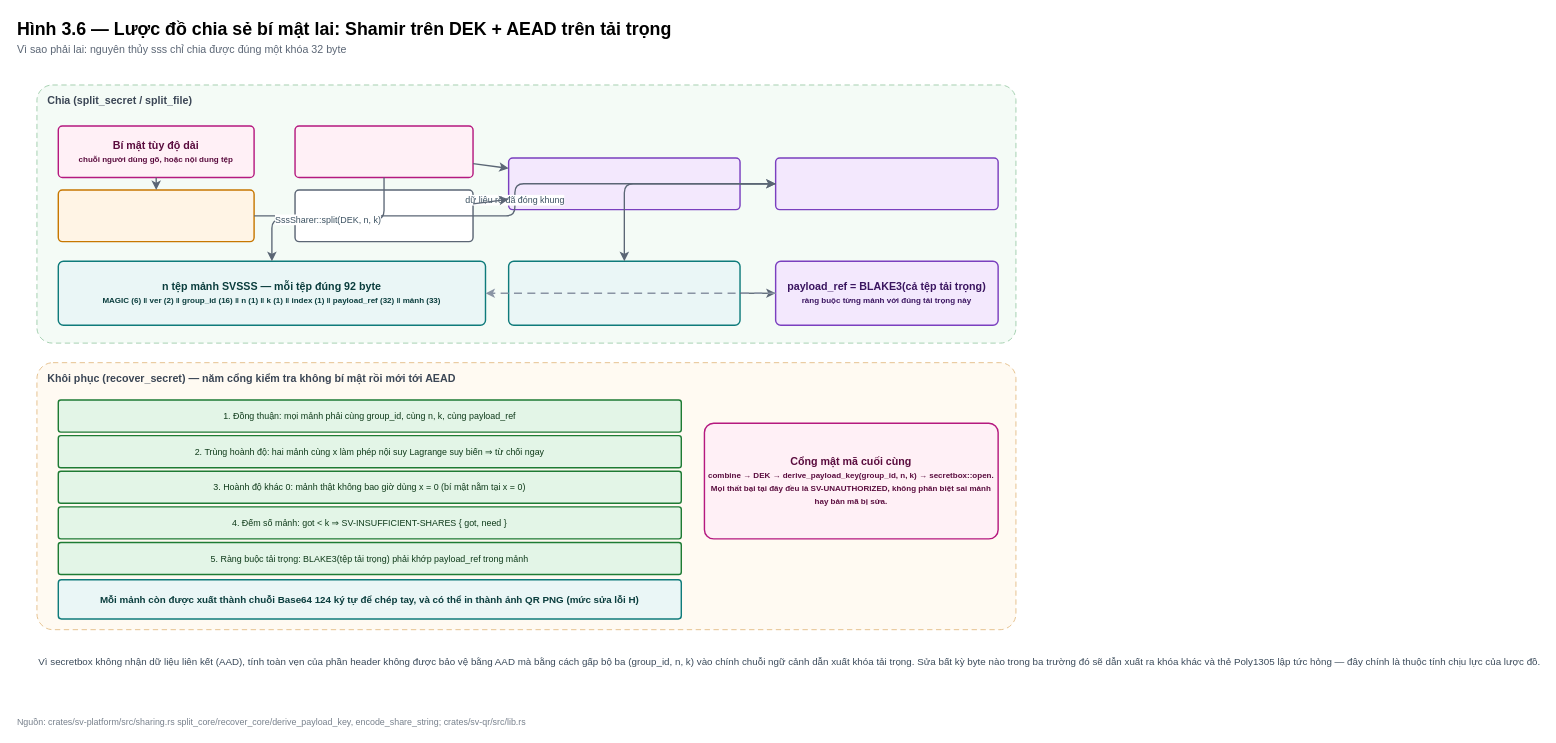
Image size: 1556x743. Some labels were removed from this diagram. Each missing label, with the centre of its shape:
DEK 32 byte ngẫu nhiên getrandom: (383,151)
derive_payload_key BLAKE3("…/SVSS|group|n|k", DEK): (623,183)
group_id 16 byte thay cho UUID két: (383,215)
nameframe::frame gắn tên tệp gốc VÀO BÊN TRONG vùng sẽ mã hóa: (155,215)
secretbox::seal nonce 24 B + thẻ 16 B: (886,183)
Tệp tải trọng SVSSP MAGIC (6) ‖ ver (2) ‖ aead_alg (1) ‖ nonce (24) ‖ ciphertext: (623,293)
